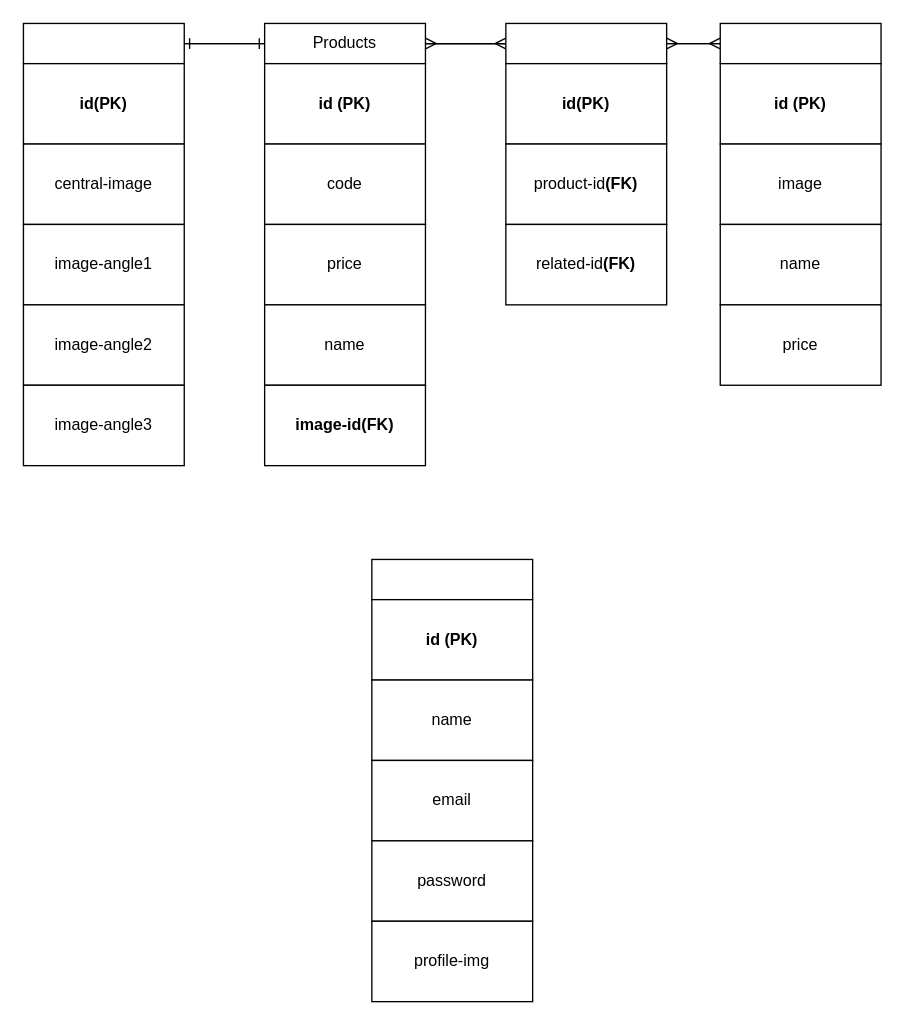
The diagram is 905 pixels wide and 1025 high, and some of its shapes have lost their labels. Each missing label, with the centre of its shape:
Images: point (103, 43)
Products-Related: point (586, 43)
Related: point (800, 43)
Users: point (452, 579)
